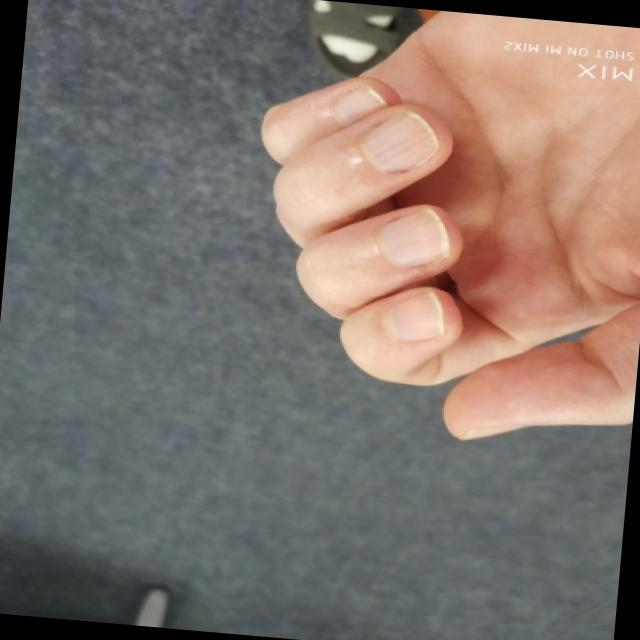Nail: (360, 109, 438, 171), (378, 205, 448, 265), (377, 290, 443, 341), (333, 82, 386, 123), (458, 424, 524, 440)
